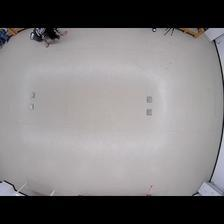fall: (29, 26, 62, 45)
